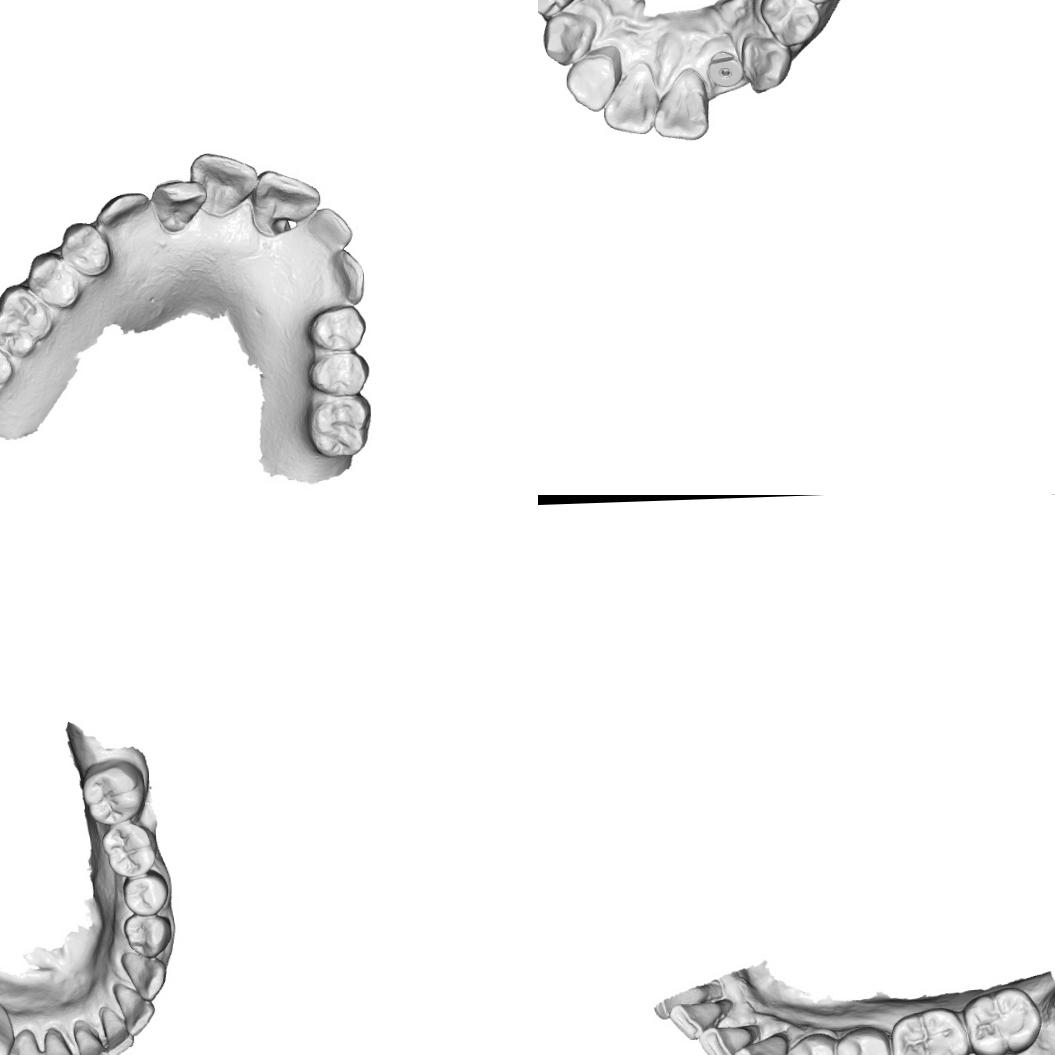canine: (741, 31, 795, 95), (542, 11, 598, 68), (119, 950, 167, 1003), (92, 190, 152, 231), (328, 248, 366, 305), (730, 1031, 788, 1055), (2, 1027, 42, 1055)
implant: (706, 49, 744, 89)
incisor: (249, 168, 322, 239), (188, 150, 260, 218), (652, 67, 710, 141), (601, 60, 657, 136), (149, 176, 208, 236), (564, 52, 618, 113), (668, 996, 729, 1043), (111, 980, 156, 1038), (308, 205, 355, 252), (99, 1006, 134, 1055), (698, 1026, 757, 1055), (72, 1023, 110, 1055), (39, 1026, 78, 1055)
molar: (961, 985, 1043, 1055), (304, 394, 374, 460), (80, 758, 146, 825), (0, 282, 54, 360), (889, 1004, 968, 1055), (100, 819, 158, 879), (0, 334, 16, 399)
premolar: (306, 346, 371, 399), (24, 250, 81, 310), (304, 302, 368, 353), (58, 220, 112, 278), (758, 0, 822, 48), (122, 911, 174, 959), (120, 871, 170, 917), (835, 1025, 893, 1055), (779, 1031, 838, 1055), (538, 0, 587, 20)
